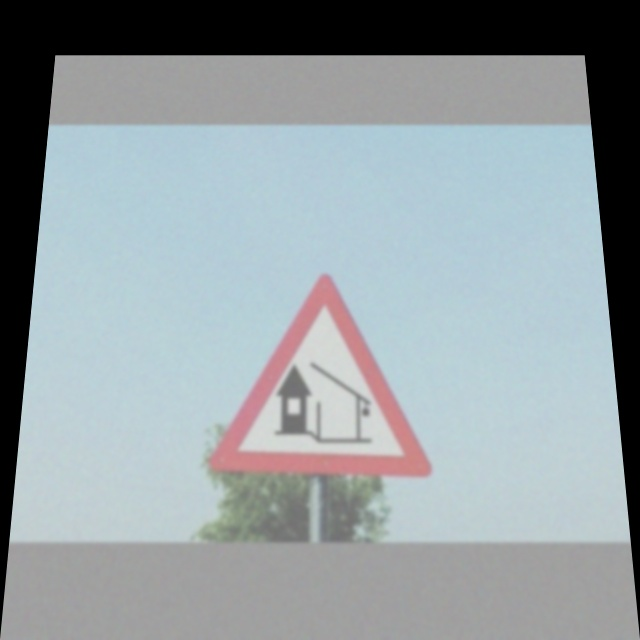Barrier_Ahead: (196, 264, 451, 485)
